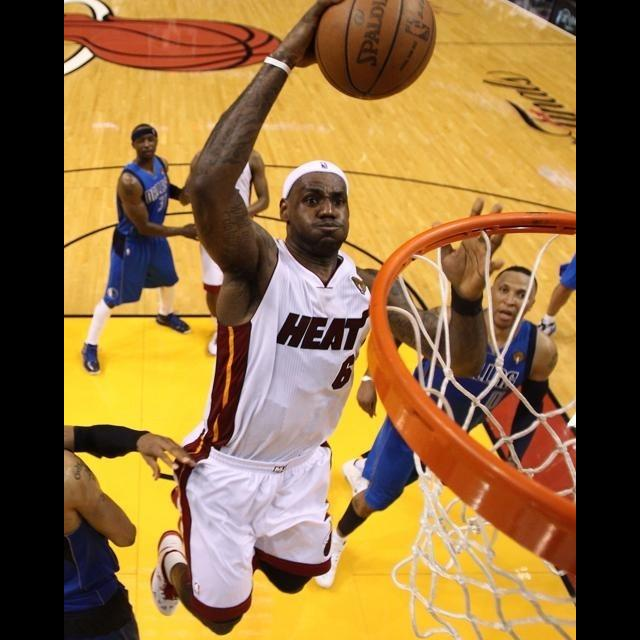basketball: (313, 0, 436, 100)
hoop: (366, 209, 575, 640)
